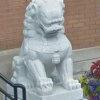Statue: (14, 1, 83, 100)
